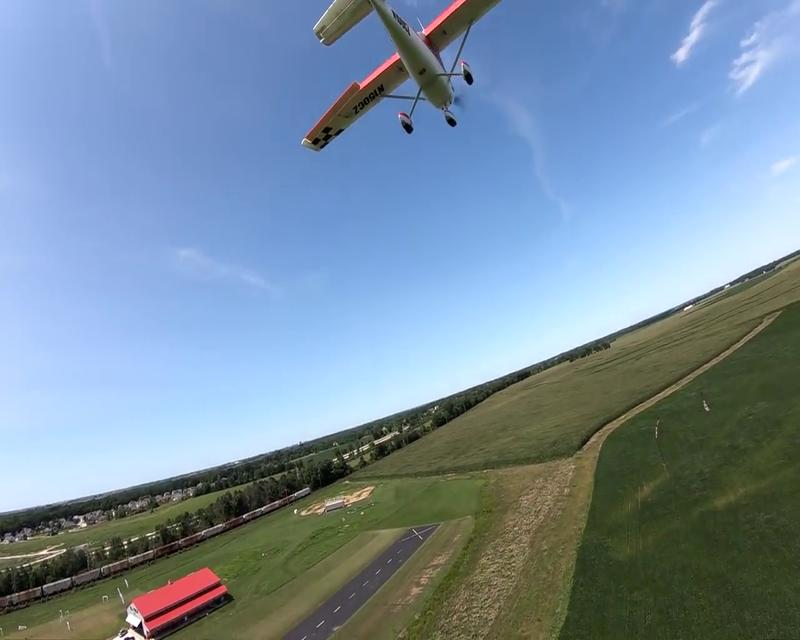UAV: (299, 0, 501, 152)
